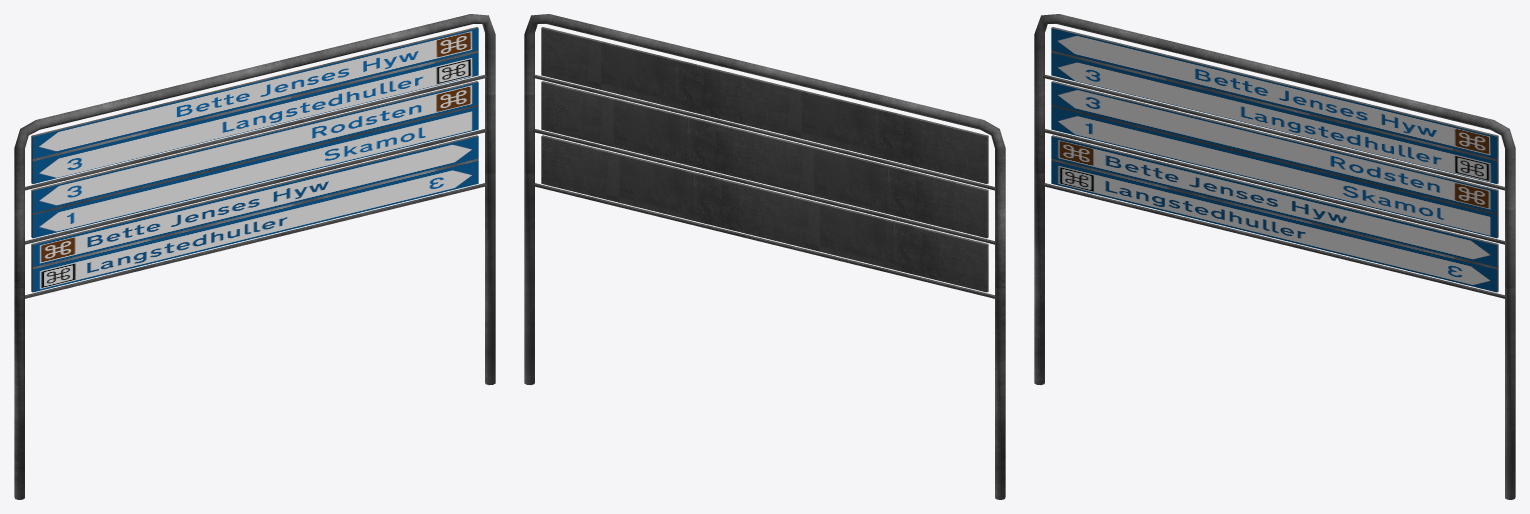
Rendered from SkilteStortFur3.fbx.
3 views of the same model, side by side, from view 1: azimuth 30°, elevation 25°; view 2: azimuth 150°, elevation 25°; view 3: azimuth 330°, elevation 25° (orthographic).
Parts seen in each view (by area): view 1: Skilt_LOD0; view 2: Skilt_LOD0; view 3: Skilt_LOD0.
Boxes of the visible parts, x1=… form: Skilt_LOD0: x1=14, y1=14, x2=495, y2=499; Skilt_LOD0: x1=524, y1=14, x2=1005, y2=499; Skilt_LOD0: x1=1034, y1=14, x2=1515, y2=499.
Size of what is drawn, in the model's own units: 255 by 190 by 5.
